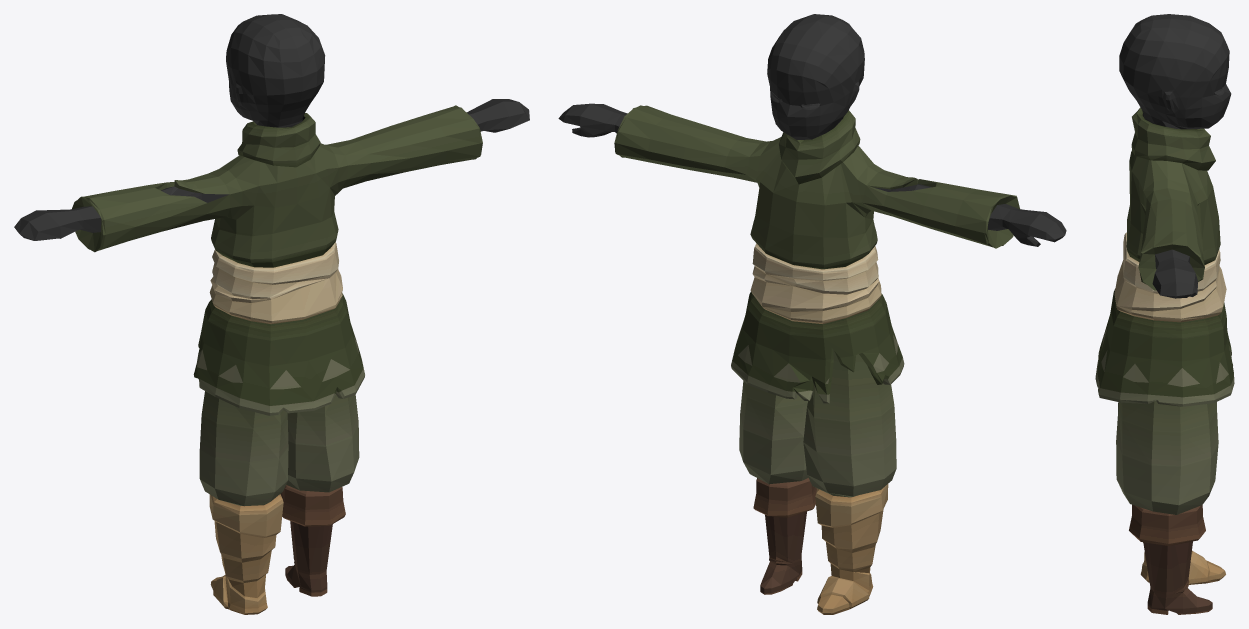
Rendered from CharSkyKid_Body_AP17Injured.glb.
The picture shows the model from 3 angles, left to right: view 1: azimuth 30°, elevation 25°; view 2: azimuth 150°, elevation 25°; view 3: azimuth 270°, elevation 25°; orthographic projection.
Visible parts, largest first — view 1: CharSkyKid_Body_AP17Injured; view 2: CharSkyKid_Body_AP17Injured; view 3: CharSkyKid_Body_AP17Injured.
Part boxes in pixels (x1=…): CharSkyKid_Body_AP17Injured: x1=14, y1=14, x2=529, y2=614; CharSkyKid_Body_AP17Injured: x1=558, y1=14, x2=1066, y2=614; CharSkyKid_Body_AP17Injured: x1=1095, y1=14, x2=1234, y2=614.
Size of the model in its own units: 13.83 by 14.93 by 3.27.
Materials: 1 (1 with a texture image).
